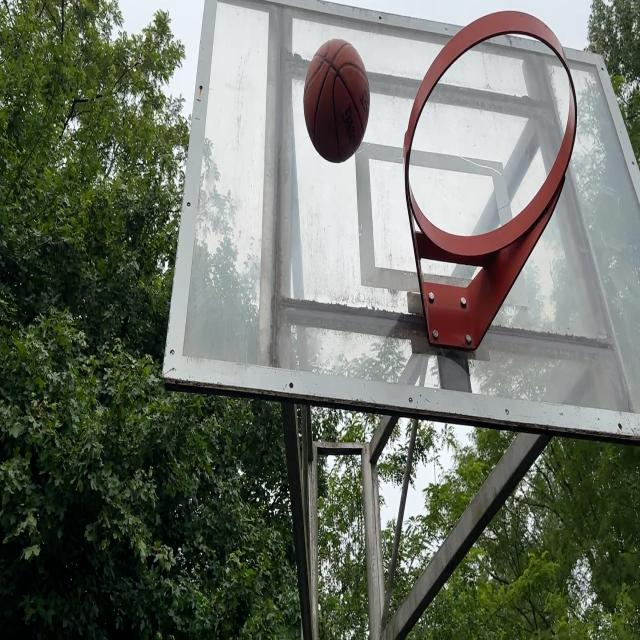rebound_hit: (304, 36, 370, 168)
